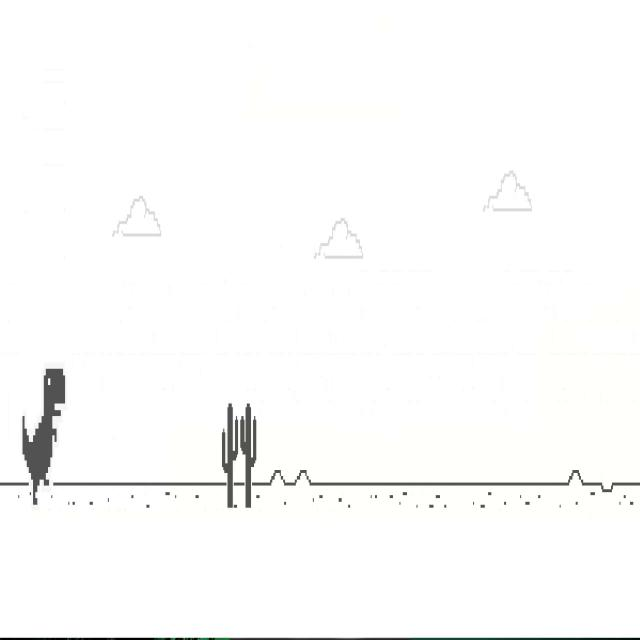cacto: (240, 402, 257, 509), (222, 402, 238, 509)
dino: (22, 366, 66, 506)
